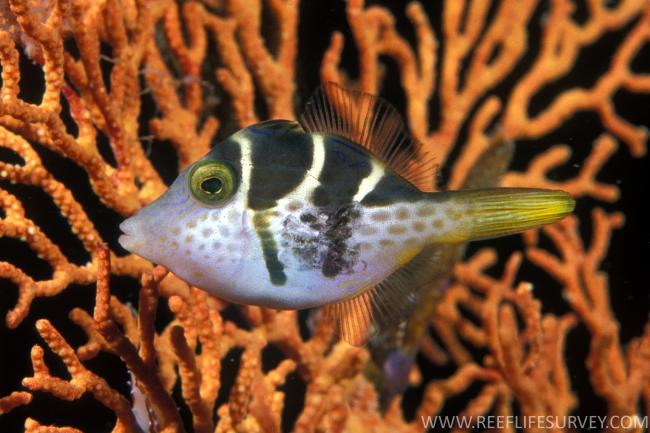fish: (119, 119, 578, 310)
